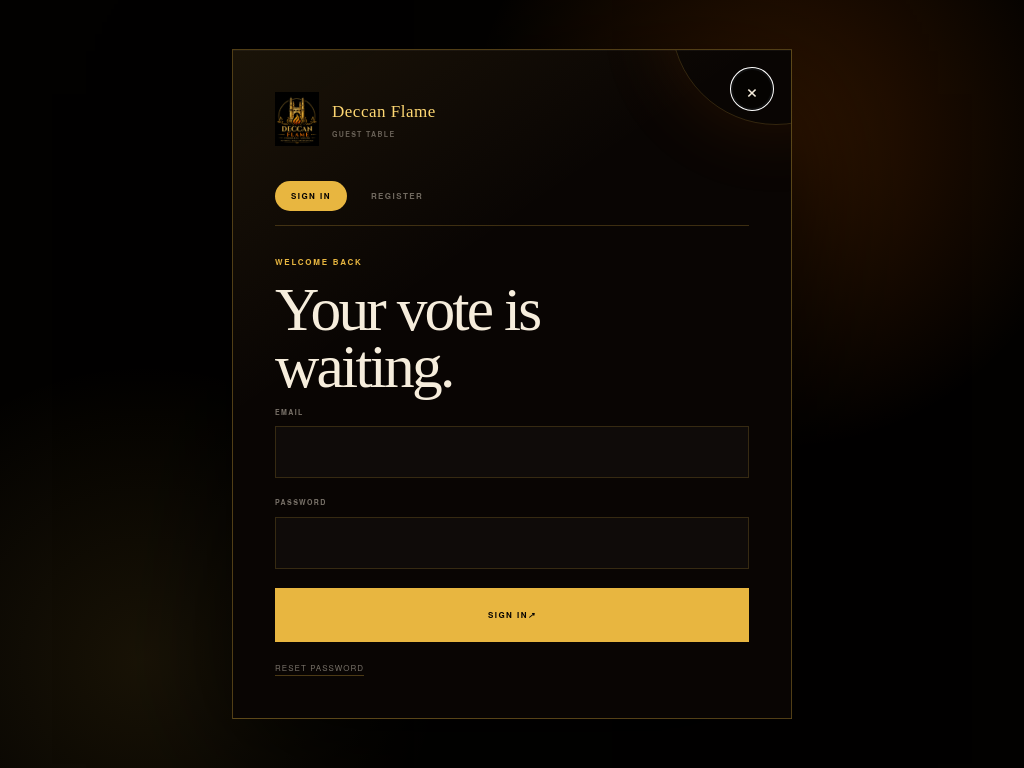
Test case: account dialog › shows a friendly error for invalid credentials
The image size is (1024, 768).
In the password field labelled "Password": (512,542) 275,516 -> 749,568, type "abcdef"
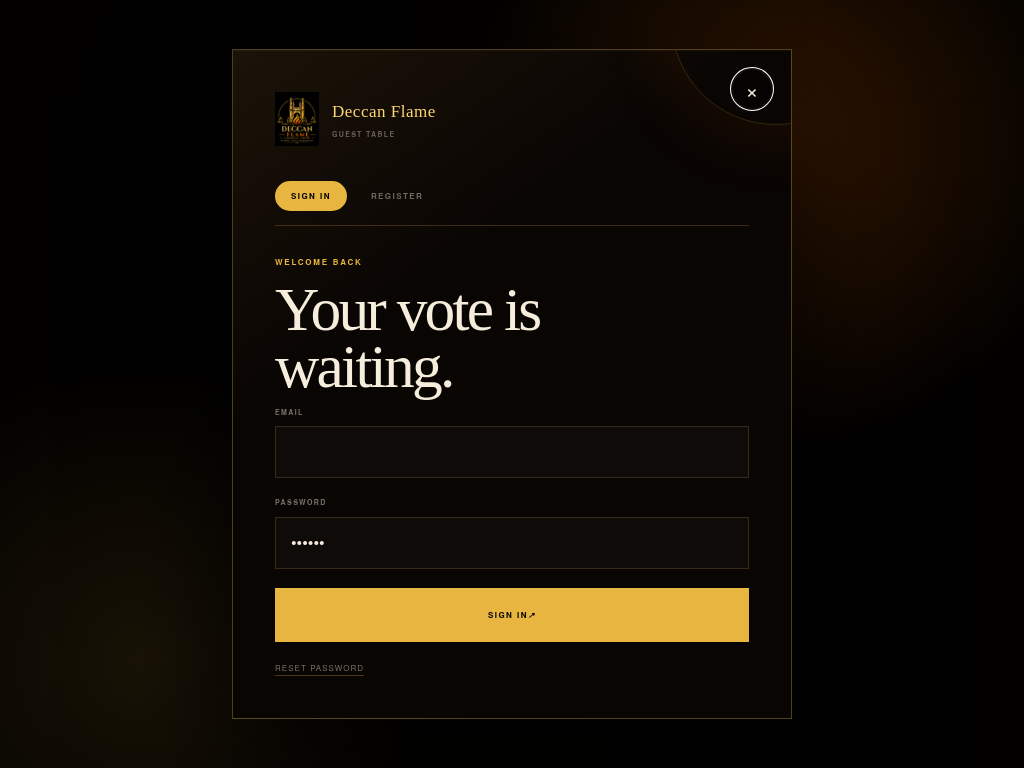
Submit the form labelled "Password", box 275,406 -> 749,676
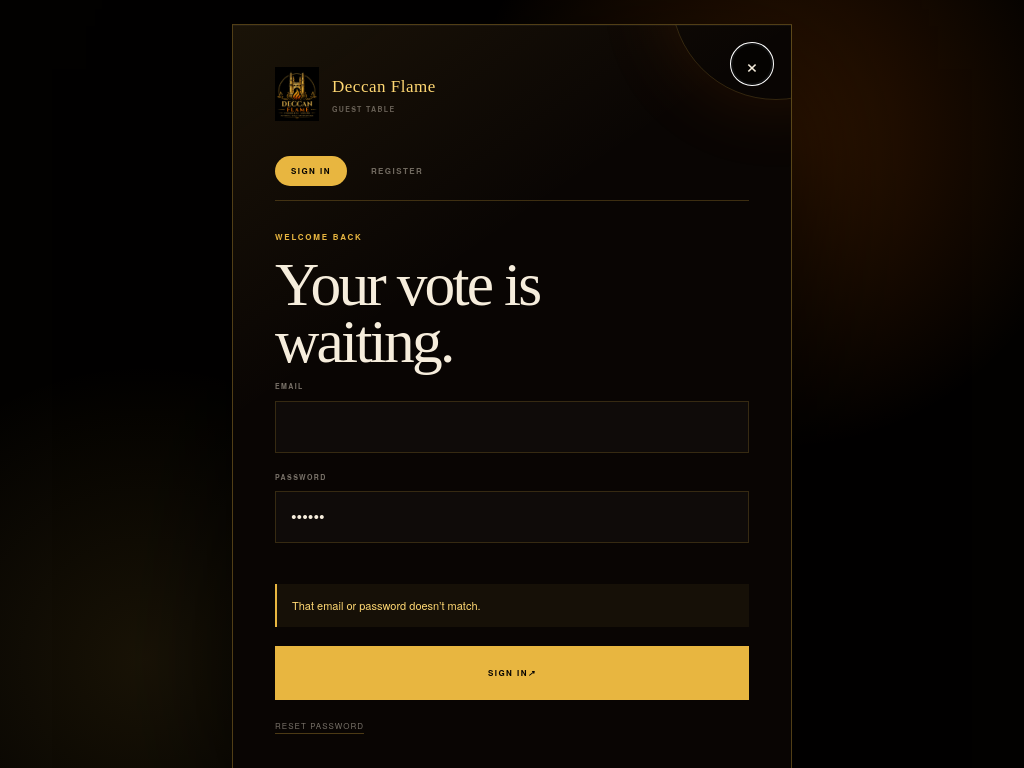
Check: the message shows "doesn’t match", box 292,597 -> 481,613
